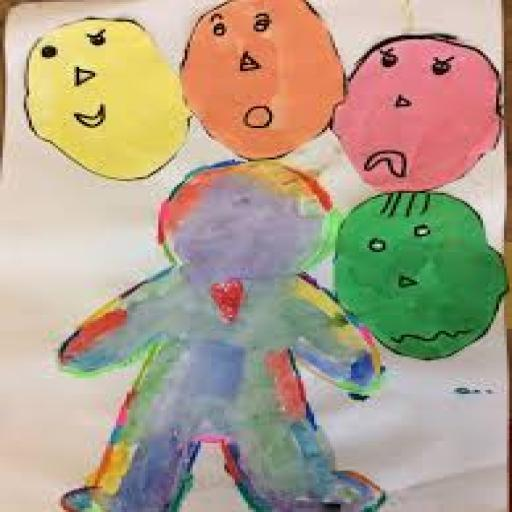person: (43, 159, 383, 510), (330, 185, 512, 366), (20, 7, 186, 192), (342, 24, 502, 206), (186, 0, 343, 173)
